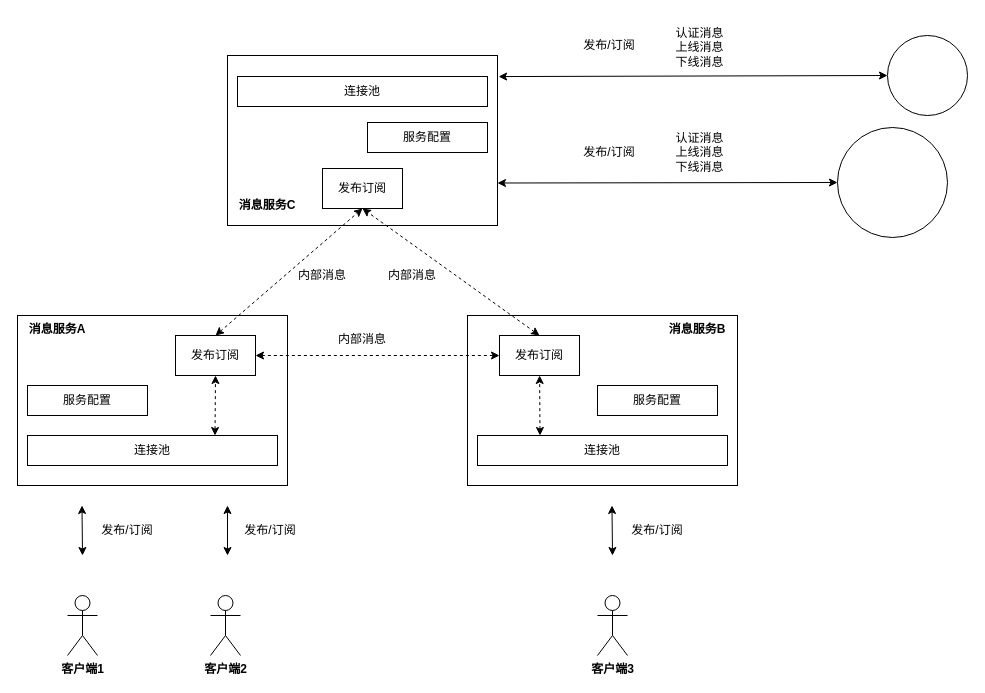
This 985x693 diagram has some shape labels left out. Here are the shapes that lost their labels. From the top down, the centre of each, then its label:
At point (927, 75): "业务系统B".
At point (892, 182): "业务系统A".
